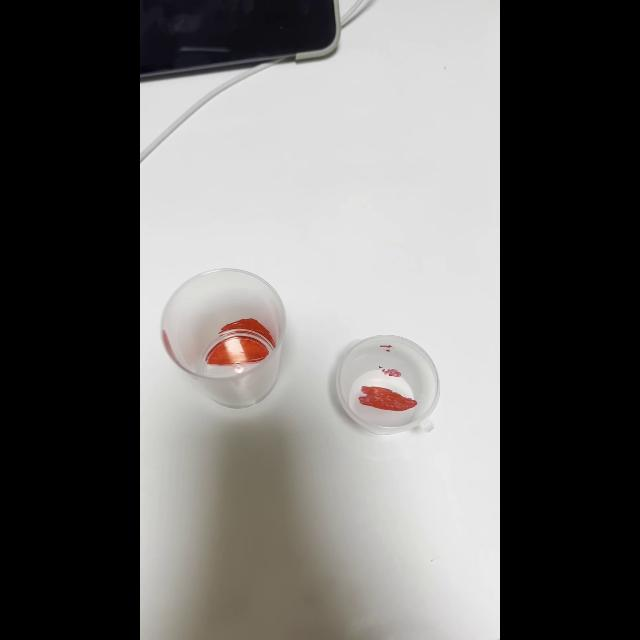dirty: (162, 270, 288, 416), (332, 328, 444, 436)
